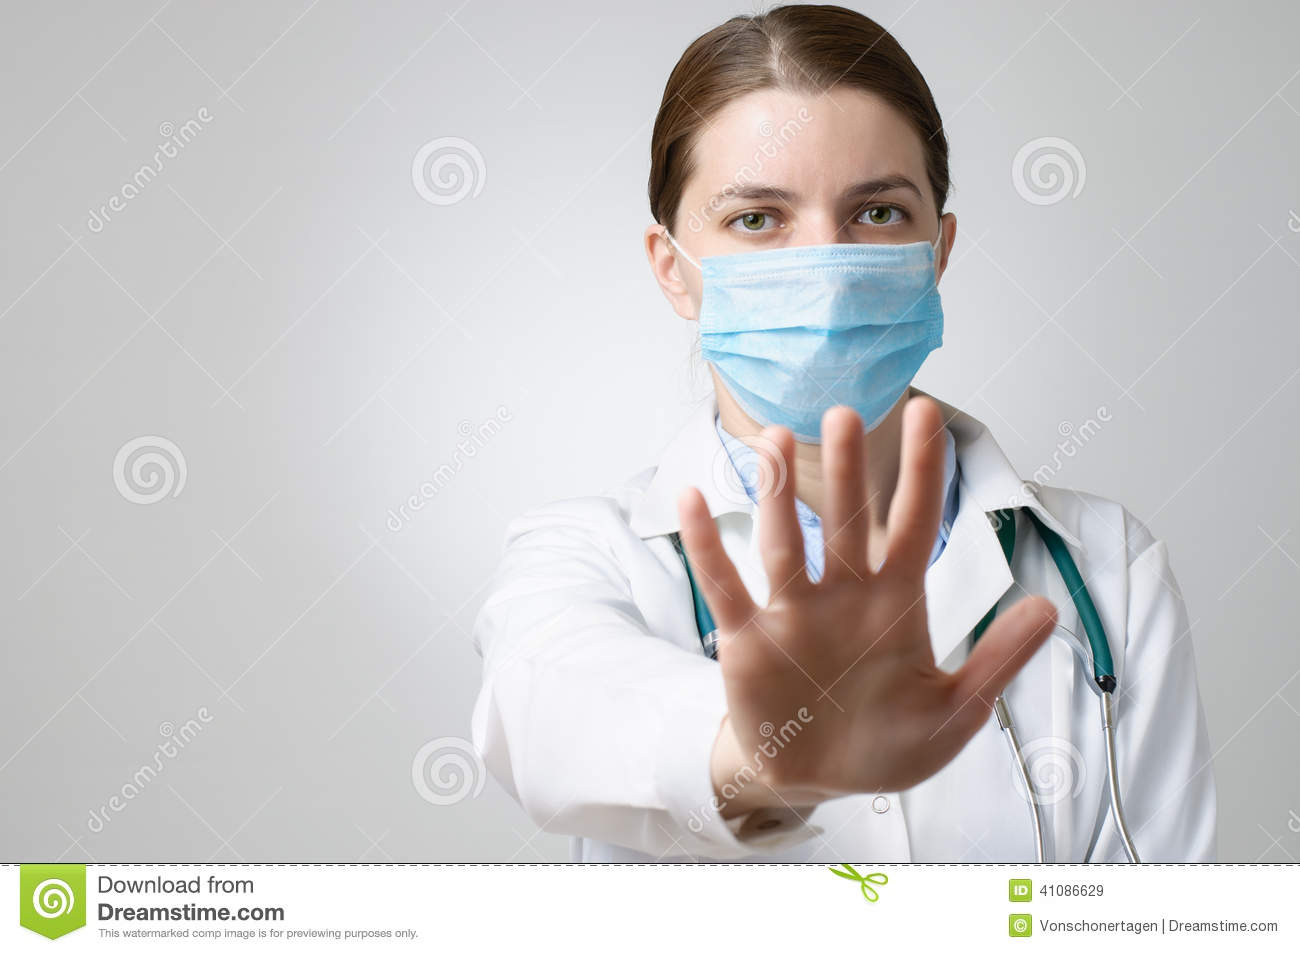mask: (695, 240, 945, 441)
